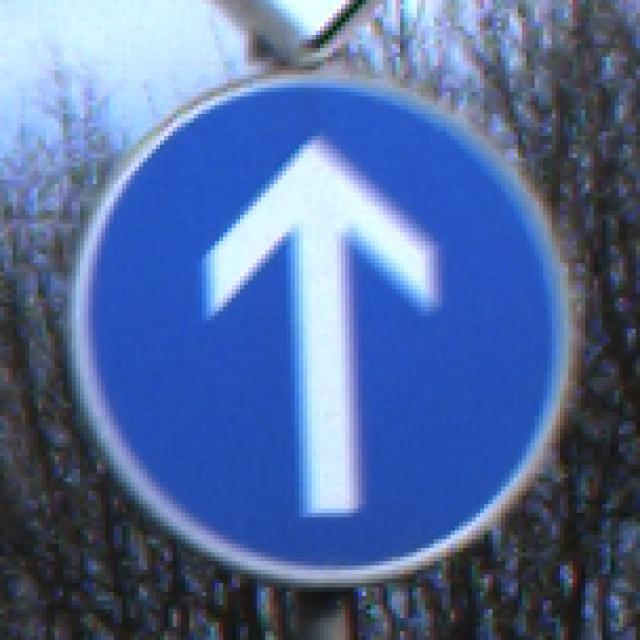compulsary ahead: (96, 78, 563, 590)
